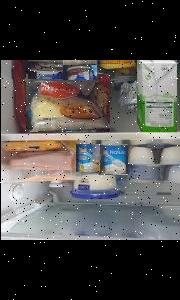Leche: (136, 60, 176, 132)
Queso: (25, 74, 109, 132)
Yogur: (98, 144, 127, 174), (74, 144, 99, 172), (62, 60, 96, 80), (27, 60, 62, 79)
